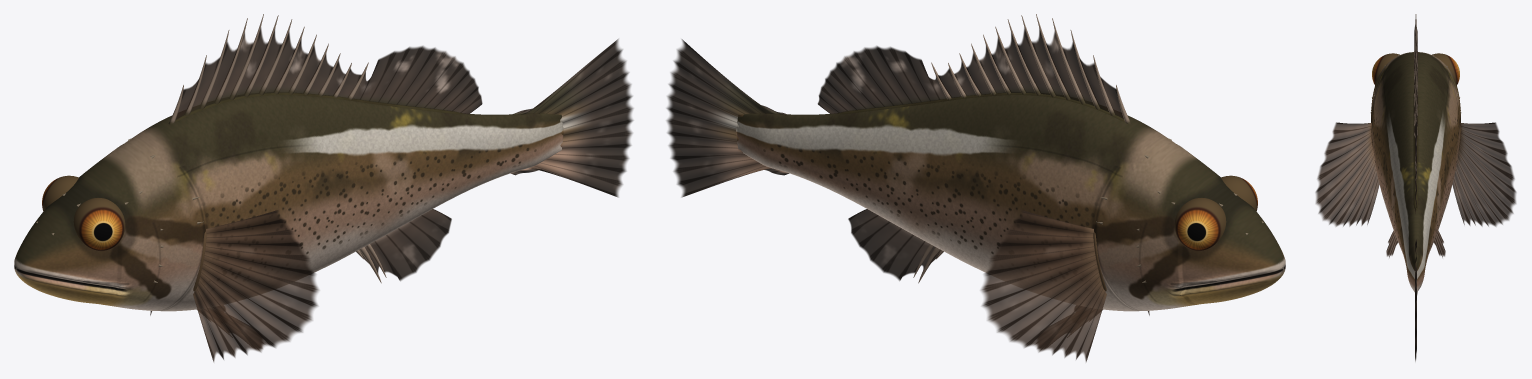
Rendered from copper-rockfish-olive.glb.
3 renders of one model, left to right at view 1: azimuth 30°, elevation 25°; view 2: azimuth 150°, elevation 25°; view 3: azimuth 270°, elevation 25°, orthographic. The views are drawn at different scales.
Parts seen in each view (by area): view 1: Body, Fin_Pectoral_L, Fin_Dorsal, Fin_Caudal, Spines, Fin_Anal, Eye_L, Fin_Base_Fillets, Eye_R, Fin_Pelvic_L; view 2: Body, Fin_Pectoral_R, Fin_Dorsal, Fin_Caudal, Spines, Fin_Anal, Eye_R, Fin_Base_Fillets, Eye_L, Fin_Pelvic_R; view 3: Body, Fin_Pectoral_L, Fin_Pectoral_R, Fin_Base_Fillets, Fin_Dorsal, Spines, Eye_L, Eye_R, Fin_Caudal, Fin_Pelvic_L, Fin_Pelvic_R.
Part boxes in pixels (<box>): Body: <box>14,95,563,311</box>; Fin_Pectoral_L: <box>193,210,319,361</box>; Fin_Dorsal: <box>176,27,482,119</box>; Fin_Caudal: <box>510,39,633,197</box>; Spines: <box>168,14,386,283</box>; Fin_Anal: <box>359,209,451,281</box>; Eye_L: <box>73,198,125,250</box>; Fin_Base_Fillets: <box>175,92,462,121</box>; Eye_R: <box>42,175,78,211</box>; Fin_Pelvic_L: <box>205,308,263,348</box>; Body: <box>736,95,1285,311</box>; Fin_Pectoral_R: <box>980,210,1106,361</box>; Fin_Dorsal: <box>817,27,1123,118</box>; Fin_Caudal: <box>666,39,789,197</box>; Spines: <box>913,14,1131,283</box>; Fin_Anal: <box>848,209,940,280</box>; Eye_R: <box>1174,198,1226,250</box>; Fin_Base_Fillets: <box>837,93,1124,121</box>; Eye_L: <box>1221,175,1257,211</box>; Fin_Pelvic_R: <box>1036,308,1094,348</box>; Body: <box>1371,52,1460,292</box>; Fin_Pectoral_L: <box>1315,122,1379,226</box>; Fin_Pectoral_R: <box>1452,122,1516,226</box>; Fin_Base_Fillets: <box>1413,75,1418,210</box>; Fin_Dorsal: <box>1414,25,1417,213</box>; Spines: <box>1414,14,1417,136</box>; Eye_L: <box>1372,53,1399,85</box>; Eye_R: <box>1432,53,1459,85</box>; Fin_Caudal: <box>1415,239,1416,361</box>; Fin_Pelvic_L: <box>1386,230,1397,257</box>; Fin_Pelvic_R: <box>1434,230,1445,257</box>.
Bounding box in the file's own units: 0.422 × 0.2072 × 0.156.
Materials: 10 (9 with a texture image).
